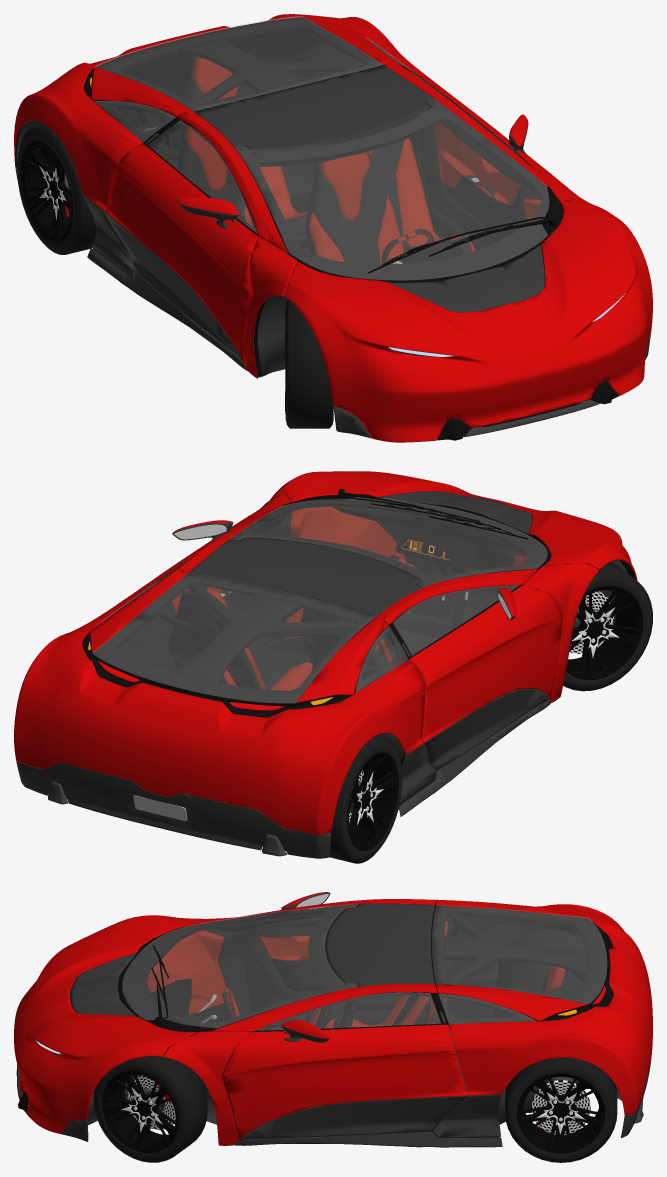
Rendered from car.glb.
3 views of the same model, one above another, from view 1: azimuth 30°, elevation 25°; view 2: azimuth 150°, elevation 25°; view 3: azimuth 270°, elevation 25° (orthographic). The views are drawn at different scales.
Visible parts, largest first — view 1: BodyHood, BodyWindshield, BodyRearwindow, BodyDoorRColor1, BodyRearPanelsColor1, BodyRoofPanel, BodyWindshieldGasket, InteriorSeatsColor1, InteriorSeatsColor2, BodyPillars, InteriorPillar, InteriorRearHatch (+21 smaller); view 2: BodyRearPanelsColor1, BodyRearwindow, BodyWindshield, BodyDoorRColor1, BodyPanelsColor2, BodyRoofPanel, BodyHood, InteriorRearHatch, BodyPillars, InteriorPillar, BodyWindshieldGasket, InteriorDashMid (+22 smaller); view 3: BodyRearPanelsColor1, BodyWindshield, BodyDoorLColor1, BodyHood, BodyRearwindow, BodyRoofPanel, BodyPillars, BodyWindshieldGasket, BodyDoorLColor2, BodyPanelsColor2, WheelFrontL, InteriorRearHatch (+25 smaller).
Part boxes in pixels (x1,y1,x2,y2): BodyHood: (283,198,652,442); BodyWindshield: (234,98,549,280); BodyRearwindow: (95,16,382,110); BodyDoorRColor1: (104,143,257,363); BodyRearPanelsColor1: (14,14,428,210); BodyRoofPanel: (193,65,432,150); BodyWindshieldGasket: (234,99,563,282); InteriorSeatsColor1: (185,57,475,264); InteriorSeatsColor2: (180,78,472,264); BodyPillars: (176,61,598,378); InteriorPillar: (158,37,434,168); InteriorRearHatch: (93,17,383,117); BodyRearPanelsColor1: (14,569,425,834); BodyRearwindow: (92,573,373,703); BodyWindshield: (229,497,547,587); BodyDoorRColor1: (409,585,562,742); BodyPanelsColor2: (16,700,550,858); BodyRoofPanel: (189,537,422,617); BodyHood: (279,471,637,580); InteriorRearHatch: (93,573,386,707); BodyPillars: (175,489,599,702); InteriorPillar: (174,574,417,682); BodyWindshieldGasket: (230,497,550,587); InteriorDashMid: (331,503,528,622); BodyRearPanelsColor1: (436,899,652,1115); BodyWindshield: (122,904,357,1028); BodyDoorLColor1: (222,1024,467,1139); BodyHood: (14,915,196,1133); BodyRearwindow: (432,905,606,1003); BodyRoofPanel: (326,903,434,986); BodyPillars: (163,899,437,1145); BodyWindshieldGasket: (118,905,357,1032); BodyDoorLColor2: (240,1096,467,1140); BodyPanelsColor2: (16,1050,652,1147); WheelFrontL: (93,1054,207,1162); InteriorRearHatch: (431,905,606,1020).
Bounding box in the file's own units: 2.54 × 1.15 × 4.36.
Materials: 23 (2 with a texture image).
